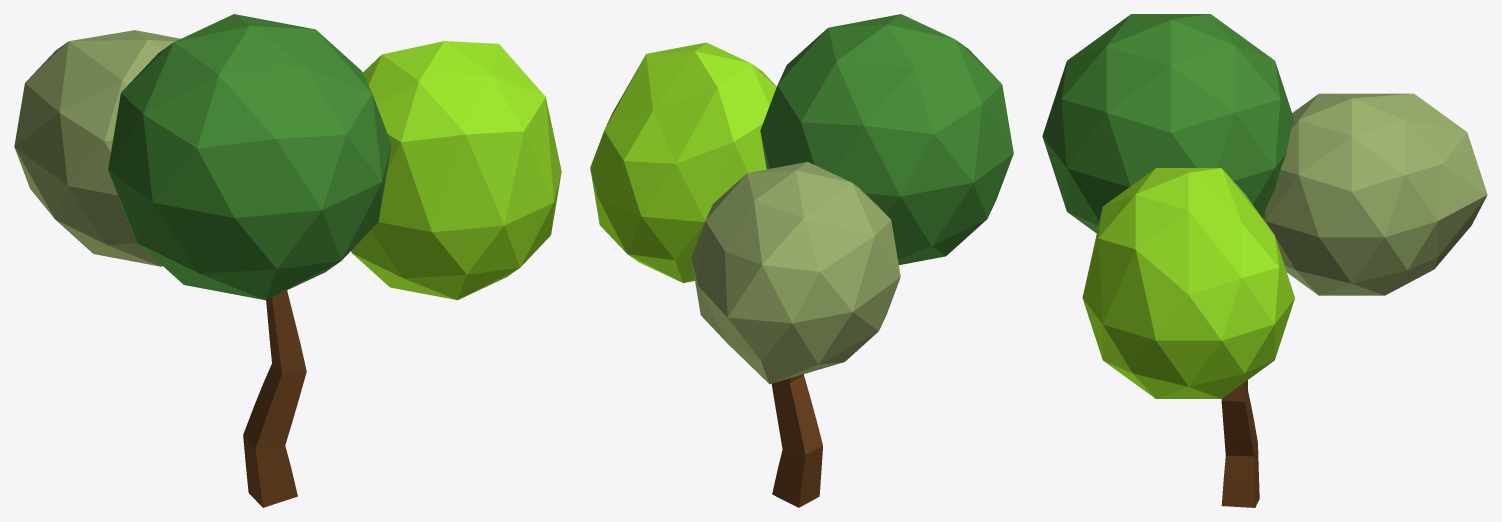
File: thirdTree.fbx
3 views of the same model, side by side, from view 1: azimuth 30°, elevation 25°; view 2: azimuth 150°, elevation 25°; view 3: azimuth 270°, elevation 25° (orthographic). The views are drawn at different scales.
Visible parts, largest first — view 1: leavesOne; view 2: leavesOne; view 3: leavesOne.
Boxes of the visible parts, x1,y1,x2,y2 form: leavesOne: (14,14,561,507); leavesOne: (590,14,1013,507); leavesOne: (1042,14,1487,507).
Bounding box in the file's own units: 342 × 398 × 351.
